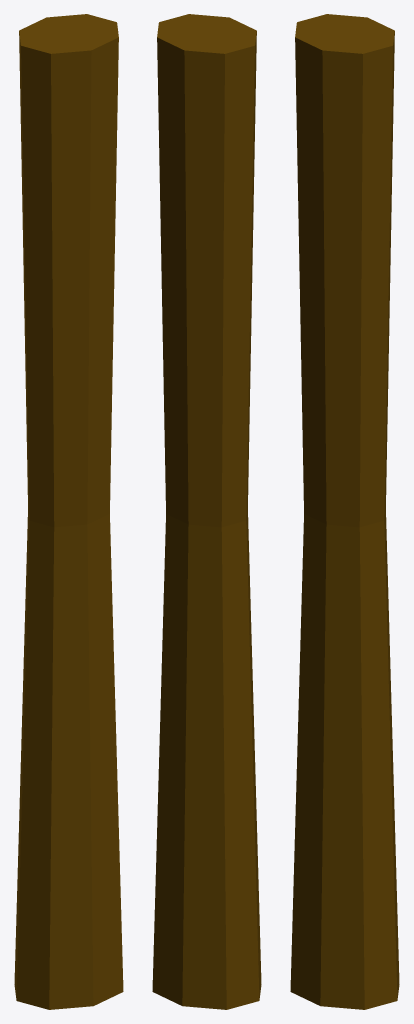
Rendered from stick.glb.
3 renders of one model, left to right at view 1: azimuth 30°, elevation 25°; view 2: azimuth 150°, elevation 25°; view 3: azimuth 330°, elevation 25°, orthographic.
Parts seen in each view (by area): view 1: stick; view 2: stick; view 3: stick.
Boxes of the visible parts, x1,y1,x2,y2 form: stick: (14,14,123,1009); stick: (152,14,261,1009); stick: (290,14,399,1009).
Bounding box in the file's own units: 0.1877 × 1.63 × 0.1525.
